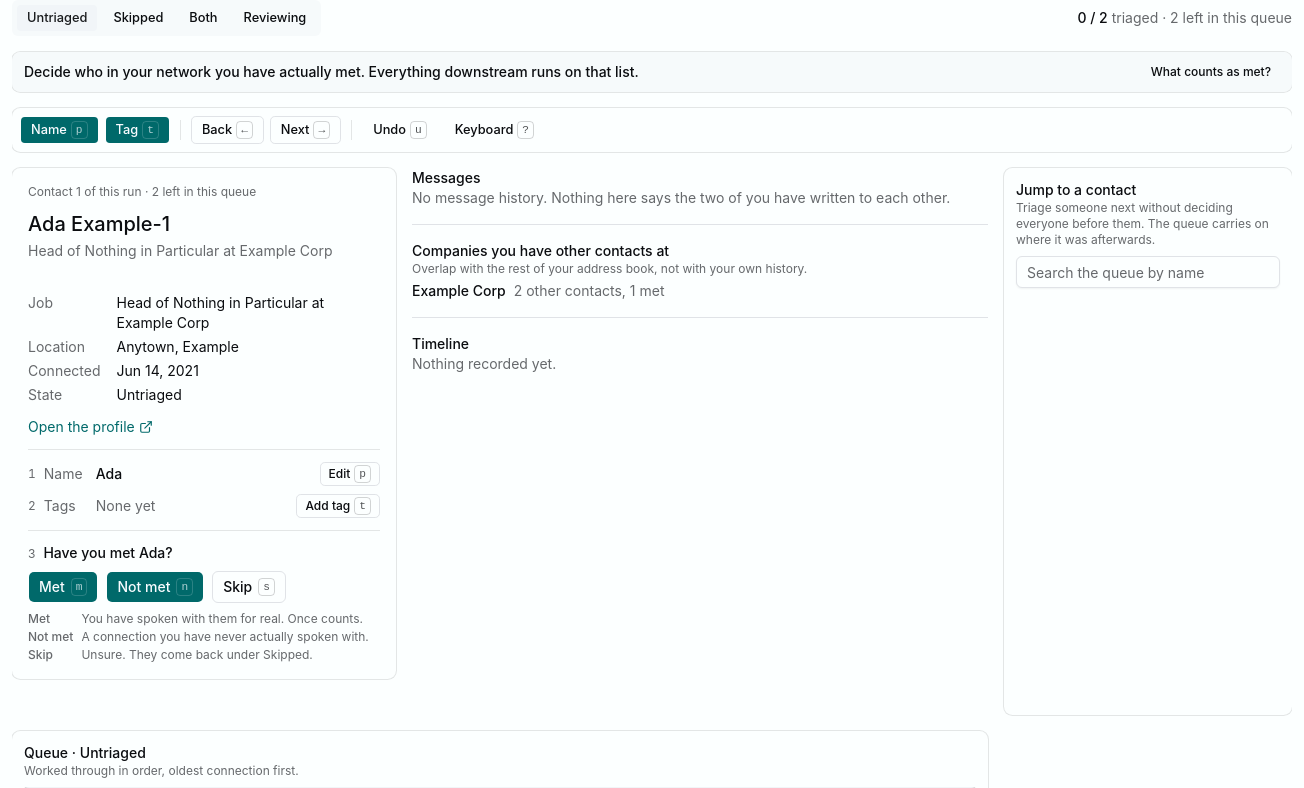
it: the on-screen controls › does not disable a control instead of explaining it
Expected: the button "Name p" is enabled, [20,116,99,144]
Expected: the button "Tag t" is enabled, [105,116,170,144]
Click the button "Back ←" at (227, 130), box [191,116,264,144]
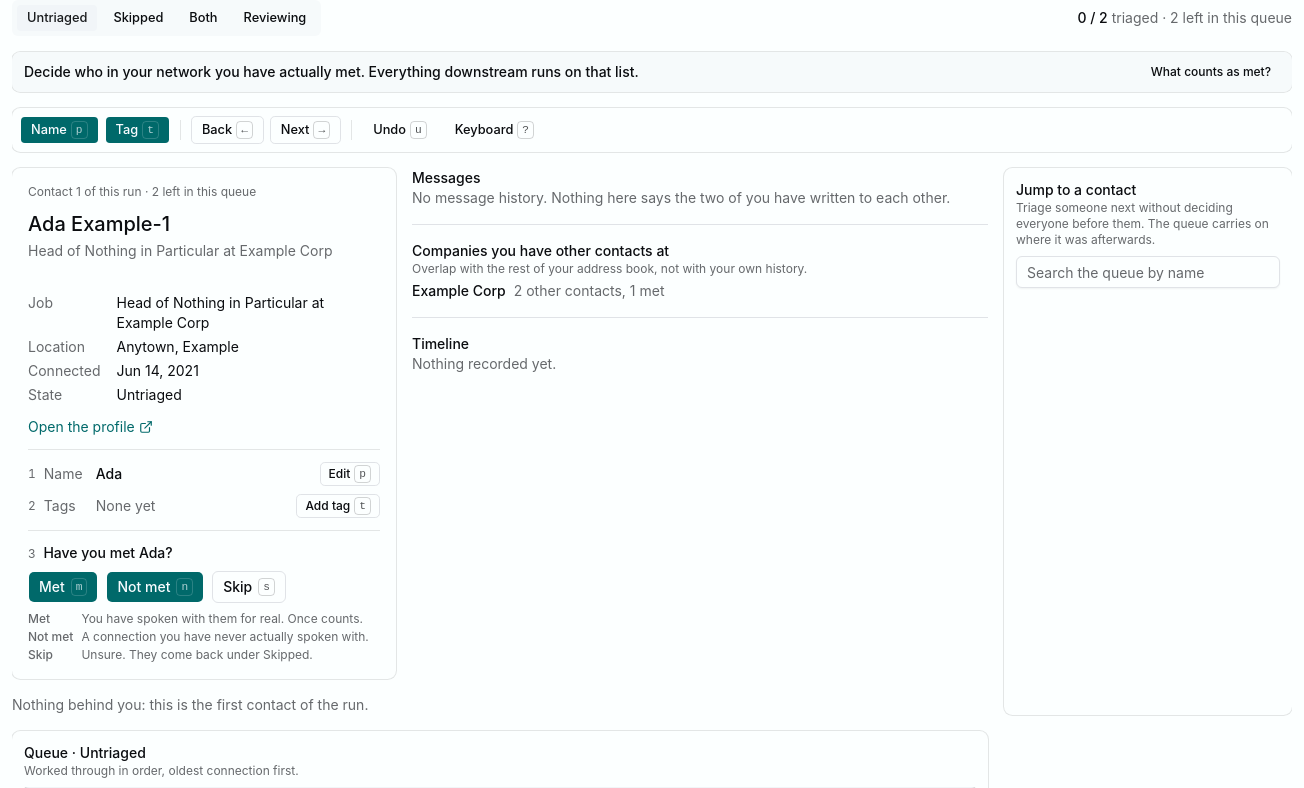
Expected: the text with test id "triage-notice" shows "Nothing behind you", [12,696,368,713]
